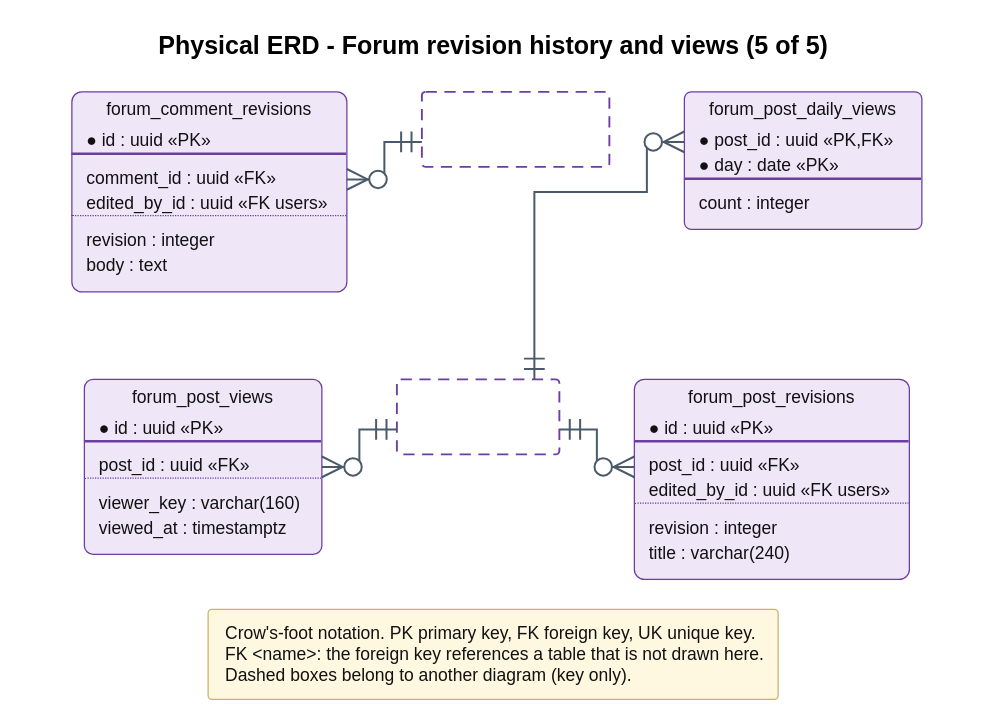
The diagram is 985 pixels wide and 721 high, and some of its shapes have lost their labels. Here are the shapes that lost their labels. From the top down, the box of each, then its label:
(420, 90, 610, 167): forum_comments ● id : uuid «PK»
(395, 378, 560, 455): forum_posts ● id : uuid «PK»
